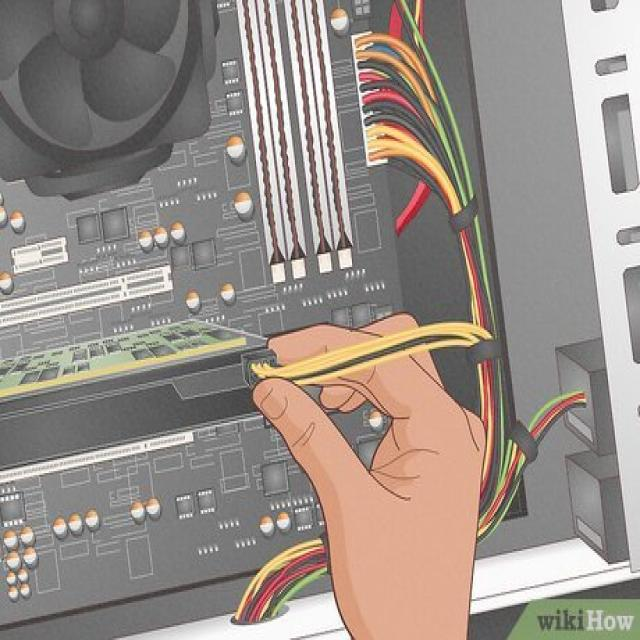electronics: (0, 0, 401, 633), (3, 321, 316, 621), (562, 2, 639, 568), (3, 0, 216, 197), (0, 321, 262, 479), (238, 0, 352, 282), (238, 0, 305, 282), (284, 2, 352, 269), (252, 314, 497, 386), (558, 338, 625, 560), (0, 263, 170, 325), (565, 454, 625, 560), (558, 338, 614, 451), (255, 538, 327, 595), (601, 96, 636, 193), (10, 236, 67, 273), (341, 404, 380, 445), (622, 269, 639, 362), (231, 595, 263, 625), (99, 208, 128, 239), (259, 462, 287, 492), (3, 492, 24, 525), (138, 226, 167, 249), (355, 440, 380, 466), (348, 301, 373, 325), (78, 211, 99, 239), (192, 237, 213, 265), (234, 189, 252, 219), (3, 210, 24, 232), (174, 0, 198, 19), (330, 7, 348, 32), (330, 304, 351, 325), (294, 505, 312, 529), (366, 410, 387, 429), (230, 135, 245, 160), (177, 493, 192, 518), (223, 59, 238, 82), (298, 505, 312, 529), (352, 0, 369, 19), (185, 289, 199, 312), (152, 226, 167, 247), (269, 597, 284, 618), (199, 490, 213, 512), (224, 93, 241, 111), (0, 271, 13, 291), (274, 516, 291, 531), (590, 0, 618, 7), (618, 228, 632, 241), (309, 325, 323, 338), (3, 531, 15, 545), (359, 325, 373, 334), (0, 208, 7, 224), (337, 328, 355, 334), (138, 505, 145, 518), (131, 621, 141, 629), (106, 623, 113, 633), (358, 20, 365, 26), (149, 17, 152, 26), (319, 581, 327, 584), (383, 423, 387, 429), (177, 20, 181, 26), (337, 26, 341, 32), (46, 631, 56, 633), (142, 4, 146, 9), (0, 195, 3, 200), (96, 630, 103, 632), (0, 573, 3, 577), (195, 39, 198, 43), (64, 629, 67, 631), (626, 108, 629, 110), (597, 68, 600, 70), (238, 154, 241, 156), (238, 143, 241, 145), (10, 590, 12, 592), (28, 551, 30, 553), (156, 16, 158, 18), (172, 256, 174, 258), (145, 622, 146, 624), (337, 13, 338, 15)
fans: (255, 0, 498, 380), (476, 356, 526, 538), (234, 538, 326, 620), (235, 544, 326, 618), (522, 391, 583, 442)
